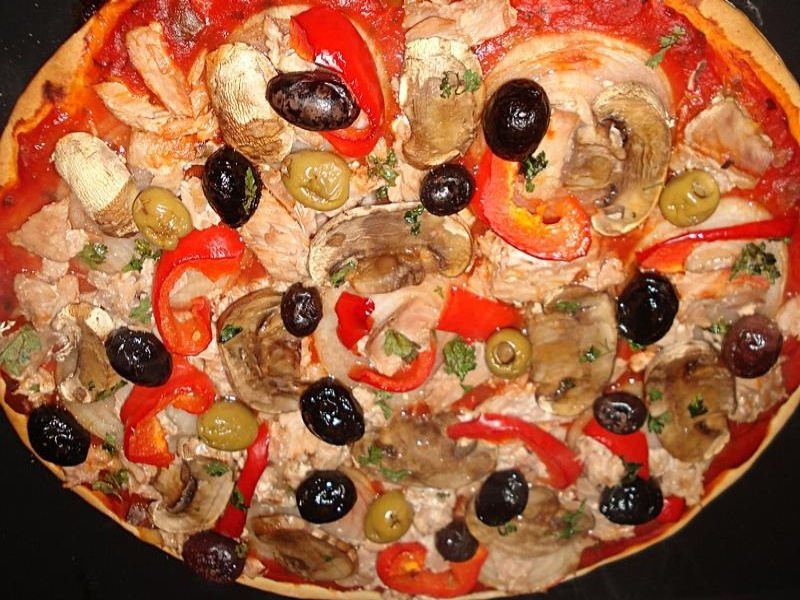champignon: (305, 204, 485, 297), (566, 85, 667, 243), (211, 287, 328, 418), (518, 287, 619, 418)
olive: (475, 76, 558, 165), (261, 70, 366, 137), (609, 265, 687, 349), (201, 141, 264, 233), (276, 144, 354, 216), (300, 377, 378, 449), (22, 400, 95, 476), (717, 308, 789, 382), (101, 320, 175, 392), (654, 164, 727, 236), (127, 182, 197, 254), (357, 480, 423, 556), (176, 527, 250, 587), (417, 159, 484, 224), (470, 468, 538, 531), (292, 466, 361, 528), (190, 393, 263, 451), (595, 474, 672, 526), (481, 322, 538, 383), (590, 385, 654, 439), (277, 280, 326, 343)
